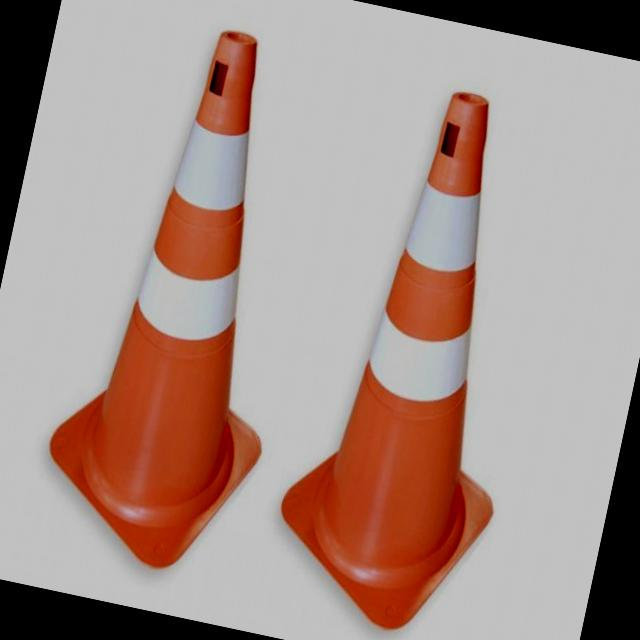cone: (34, 9, 328, 587), (255, 61, 545, 640)
